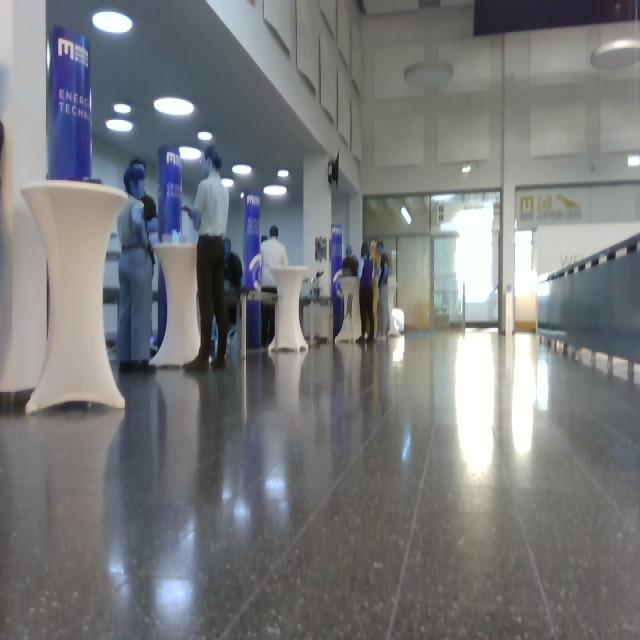door: (363, 189, 502, 334)
light bulb: (591, 39, 640, 71), (404, 61, 454, 88), (92, 11, 133, 35), (154, 97, 195, 117), (106, 118, 133, 133), (179, 146, 202, 161), (263, 185, 288, 196), (232, 164, 252, 176), (401, 205, 412, 225), (114, 103, 132, 115), (627, 154, 640, 168), (198, 130, 213, 141), (221, 178, 234, 188), (278, 169, 289, 178)
person: (182, 145, 230, 373), (117, 160, 158, 374), (261, 225, 289, 346), (356, 241, 376, 344)
pillar: (20, 179, 129, 415)
staircase: (536, 232, 640, 380)
tiled floor: (1, 327, 639, 639)
